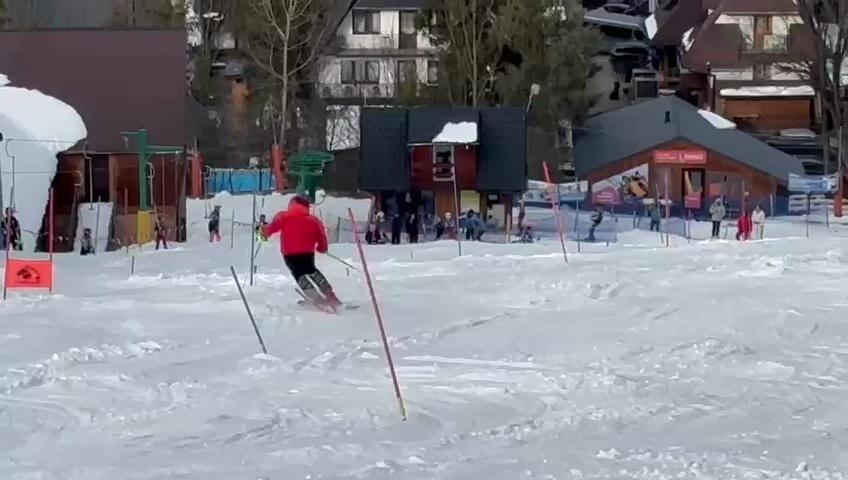gate: (338, 204, 418, 422), (224, 264, 272, 361), (1, 185, 29, 309), (543, 163, 571, 272), (243, 188, 271, 289), (39, 181, 59, 302), (443, 174, 465, 259), (571, 171, 592, 255), (658, 171, 675, 255), (131, 253, 138, 279)
